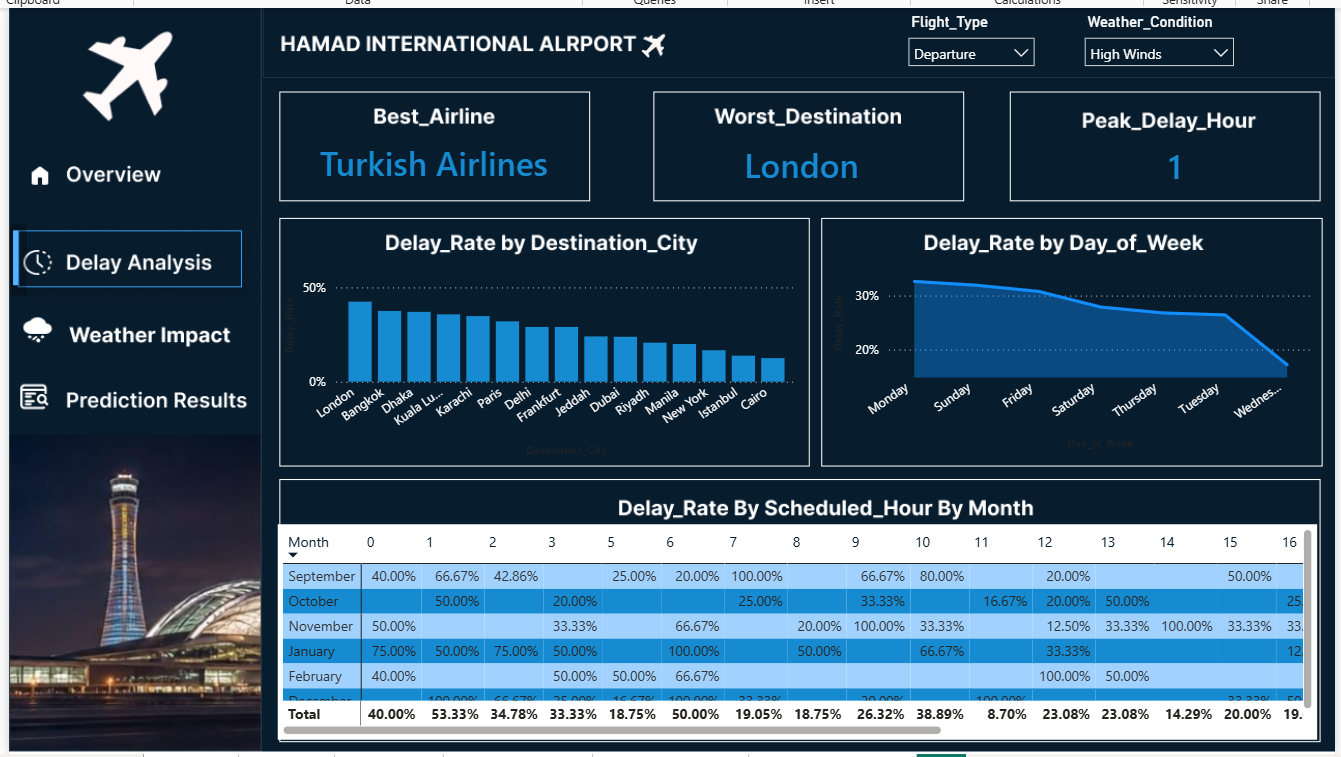

This screenshot's page, from the dashboard's own definition file:
{"tool":"powerbi","page":{"name":"Delay Analysis","canvas":[1280,720],"ordinal":3},"visuals":[{"type":"cardVisual","fields":{"Data":["Measure.Best_Airline"]},"box":[260.6,114.6,299.2,67.6],"z":0},{"type":"cardVisual","fields":{"Data":["Measure.Worst_Destination"]},"box":[651.2,114.3,227.4,70.2],"z":1000},{"type":"cardVisual","fields":{"Data":["Measure.Peak_Delay_Hour"]},"box":[1027.4,115.5,195.2,70.2],"z":2000},{"type":"pivotTable","fields":{"Columns":["hia_flights.Scheduled_Hour"],"Rows":["hia_flights.Month"],"Values":["Measure.Delay_Rate"]},"box":[259.5,498.8,1003.6,208.3],"z":3000},{"type":"clusteredColumnChart","fields":{"Category":["hia_flights.Destination_City"],"Y":["Measure.Delay_Rate"]},"box":[260.7,238.1,504.8,200],"z":4000},{"type":"areaChart","fields":{"Category":["hia_flights.Day_of_Week"],"Y":["Measure.Delay_Rate"]},"box":[790.5,238.1,472.6,194],"z":5000},{"type":"slicer","fields":{"Values":["hia_flights.Flight_Type"]},"box":[858.3,0,141.7,64.3],"z":6000},{"type":"slicer","fields":{"Values":["hia_flights.Weather_Condition"]},"box":[1027.4,0,164.3,64.3],"z":7000},{"type":"actionButton","box":[8.8,290,225,56.2],"z":8000}]}

Visuals, with their boxes on the page's 1280x720 design canvas (x1, y1, x2, y2). These are canvas units, not pixel positions in the 1341x757 screenshot, which may show the page scaled, cropped or inside an application window:
cardVisual - Measure.Best_Airline: x1=261 y1=115 x2=560 y2=182
cardVisual - Measure.Worst_Destination: x1=651 y1=114 x2=879 y2=184
cardVisual - Measure.Peak_Delay_Hour: x1=1027 y1=116 x2=1223 y2=186
pivotTable - hia_flights.Scheduled_Hour x hia_flights.Month: x1=260 y1=499 x2=1263 y2=707
clusteredColumnChart - hia_flights.Destination_City x Measure.Delay_Rate: x1=261 y1=238 x2=766 y2=438
areaChart - hia_flights.Day_of_Week x Measure.Delay_Rate: x1=790 y1=238 x2=1263 y2=432
slicer - hia_flights.Flight_Type: x1=858 y1=0 x2=1000 y2=64
slicer - hia_flights.Weather_Condition: x1=1027 y1=0 x2=1192 y2=64
actionButton: x1=9 y1=290 x2=234 y2=346
